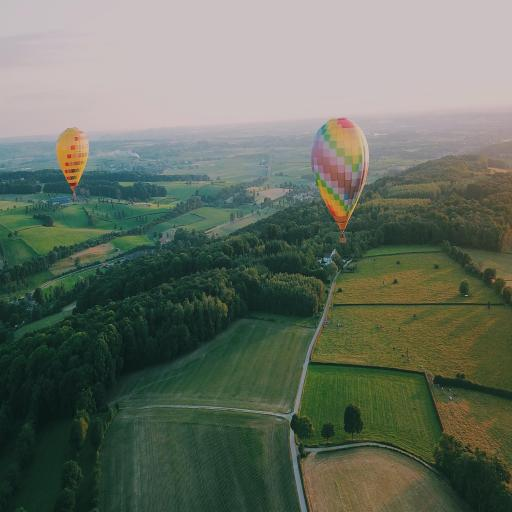hot air ballon: (311, 118, 369, 244), (56, 127, 89, 198)
